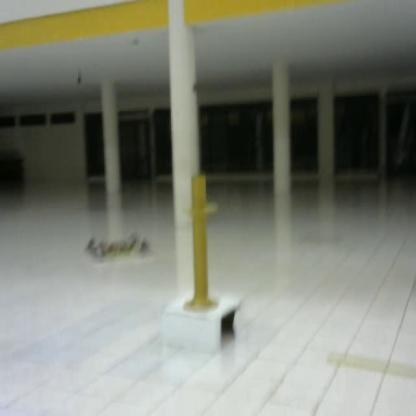pole: (183, 175, 224, 319)
